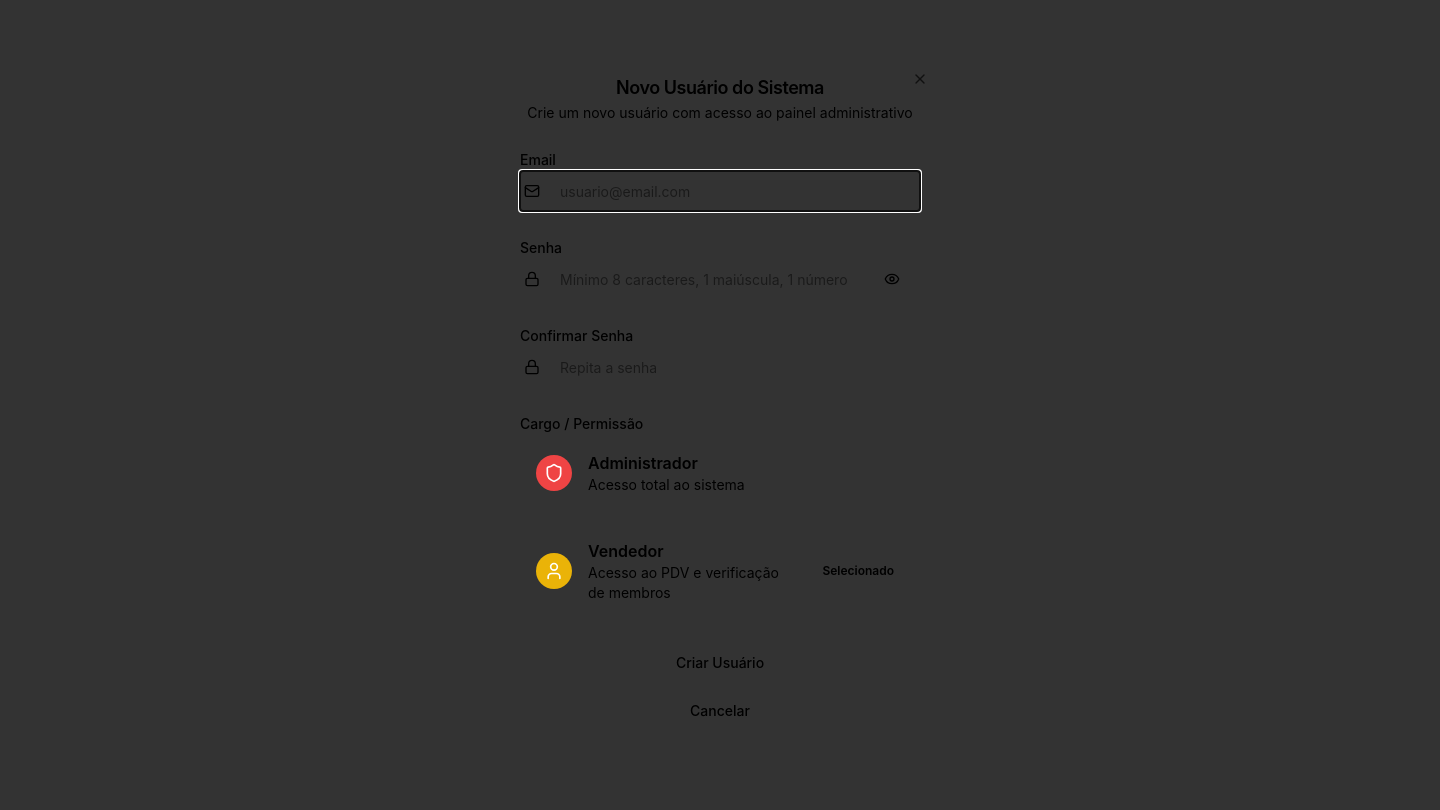
UserModal › shows admin warning when admin role is selected
Click the button "Administrador Acesso total ao sistema". click: [720, 473]
box: [520,435,920,511]
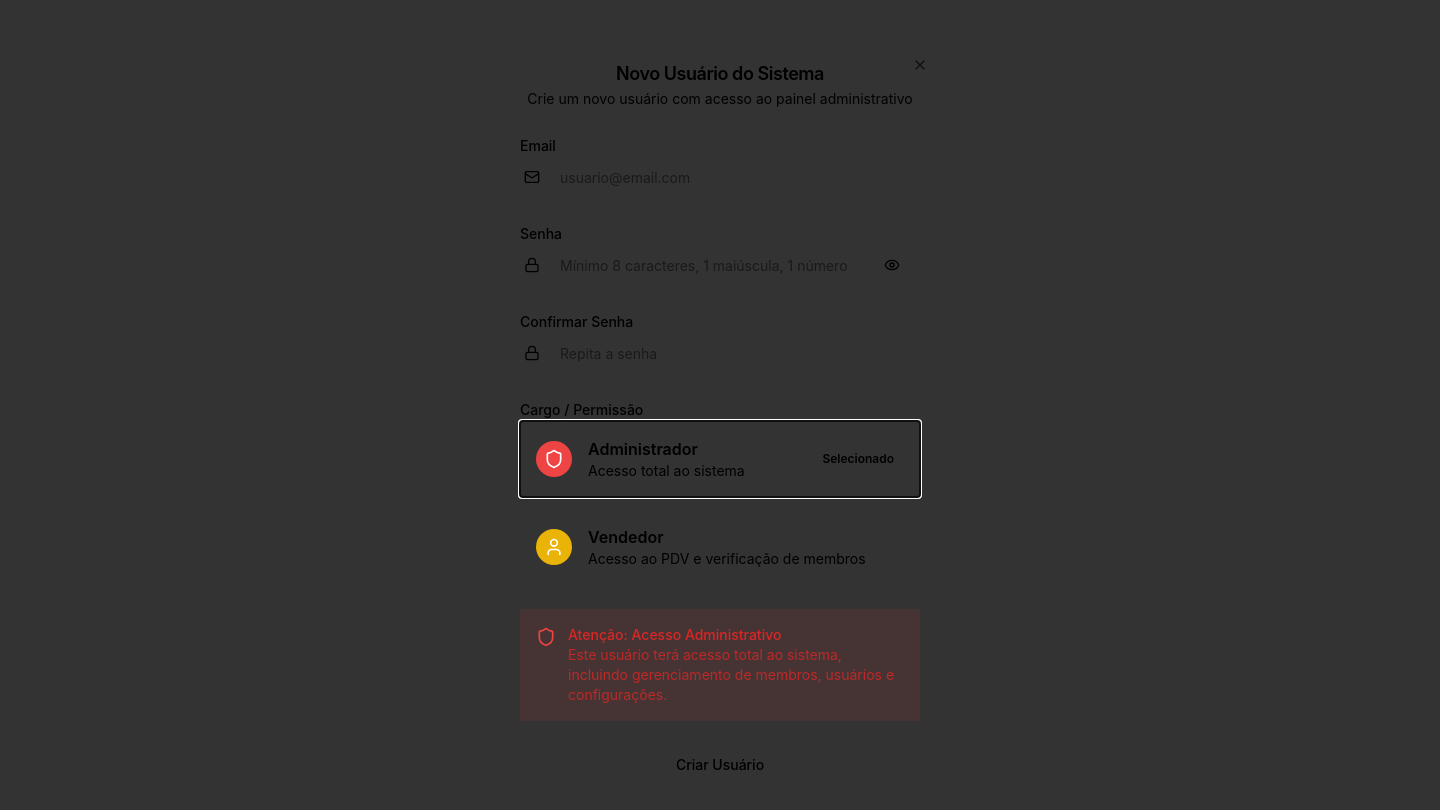
Check: the text "Atenção: Acesso Administrativo" is shown, box [568,626,781,642]
